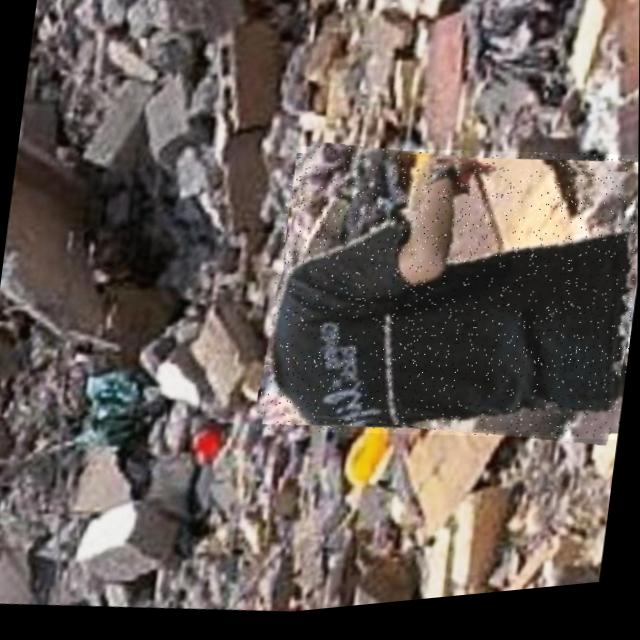Person in Rubble: (256, 125, 639, 478)
